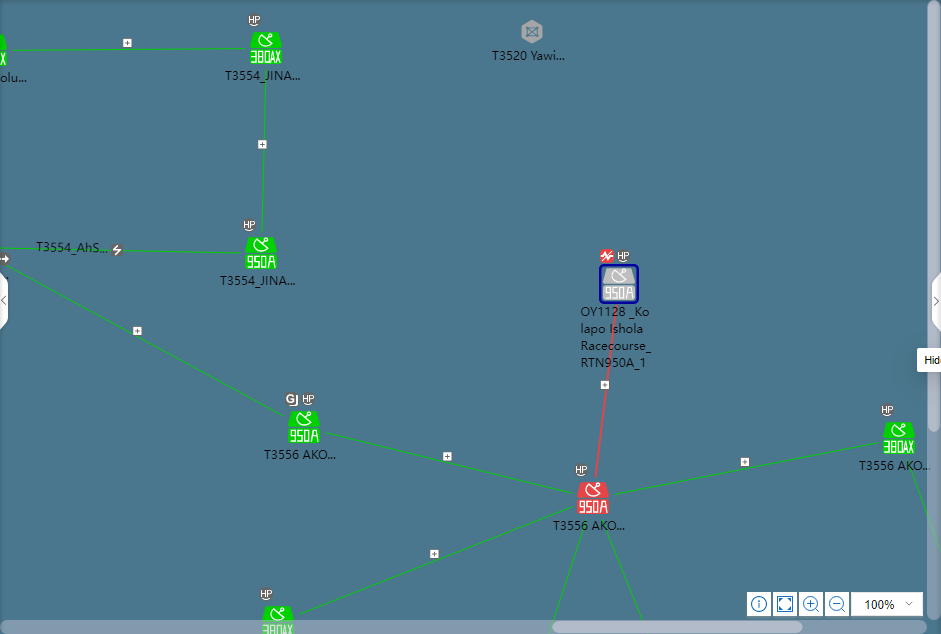Link_Green: (0, 257, 287, 417), (297, 504, 575, 619), (325, 431, 576, 496), (616, 440, 881, 498), (599, 520, 645, 620), (551, 519, 590, 621), (0, 246, 240, 256), (260, 70, 268, 232), (905, 461, 927, 519), (10, 48, 246, 52)
Link_Red: (593, 305, 618, 480)
RTN_Gray: (601, 268, 635, 301)
RTN_Green: (288, 412, 320, 445), (245, 237, 276, 269), (883, 423, 914, 454), (251, 32, 281, 63), (262, 608, 292, 633)
RTN_Red: (577, 483, 608, 514)
